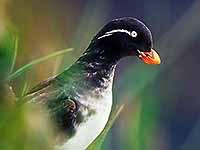007.Parakeet_Auklet: (19, 17, 163, 150)
